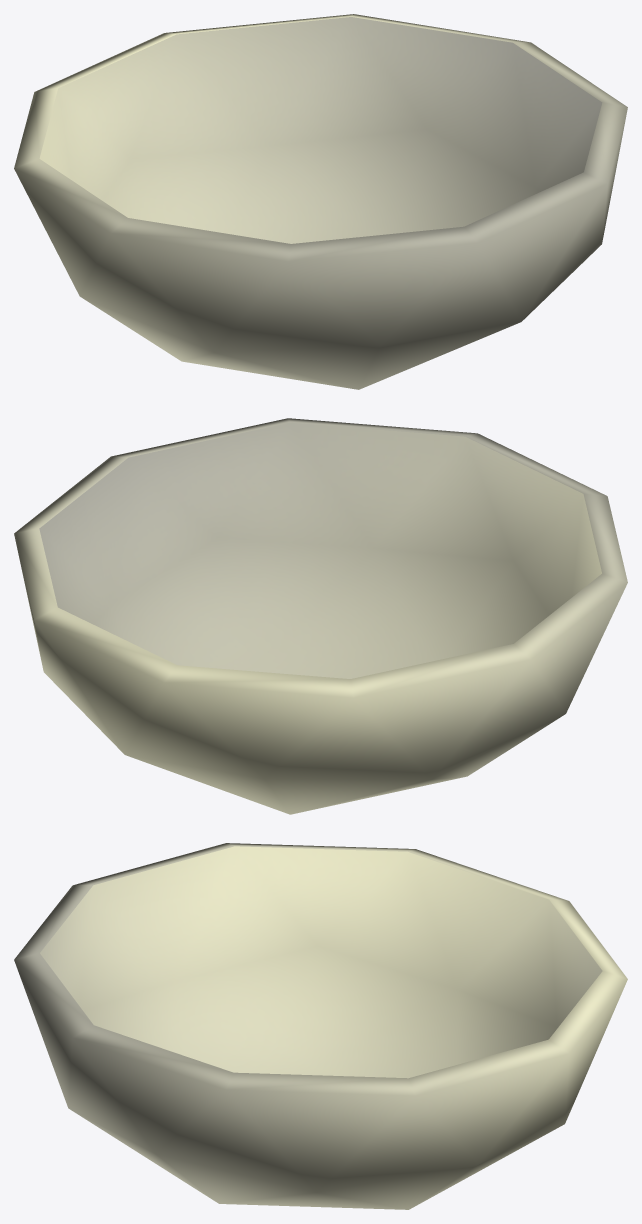
Rendered from object_dishes_bowl0.fbx.
3 renders of one model, top to bottom at view 1: azimuth 30°, elevation 25°; view 2: azimuth 150°, elevation 25°; view 3: azimuth 270°, elevation 25°, orthographic. The views are drawn at different scales.
Parts seen in each view (by area): view 1: object_dishes_bowl0; view 2: object_dishes_bowl0; view 3: object_dishes_bowl0.
Part boxes in pixels (bbox=[...]): object_dishes_bowl0: bbox=[14, 14, 627, 389]; object_dishes_bowl0: bbox=[14, 418, 627, 814]; object_dishes_bowl0: bbox=[14, 843, 627, 1209].
Size of the model in its own units: 0.3229 by 0.3393 by 0.1239.
